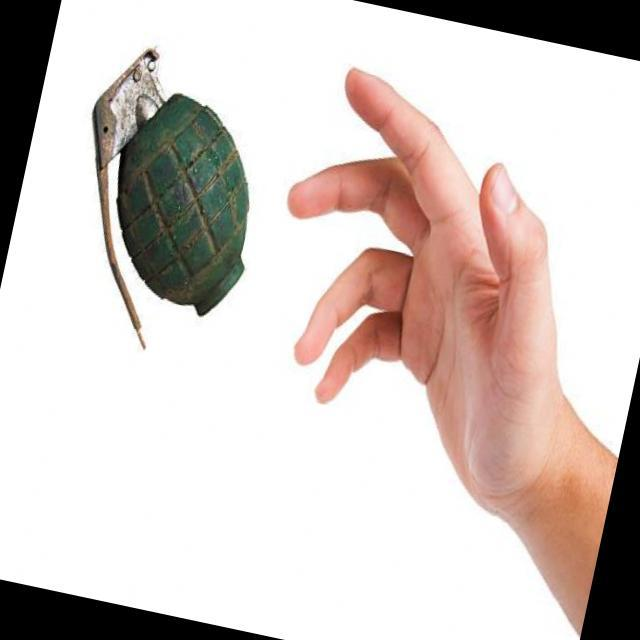grenade: (44, 39, 294, 379)
